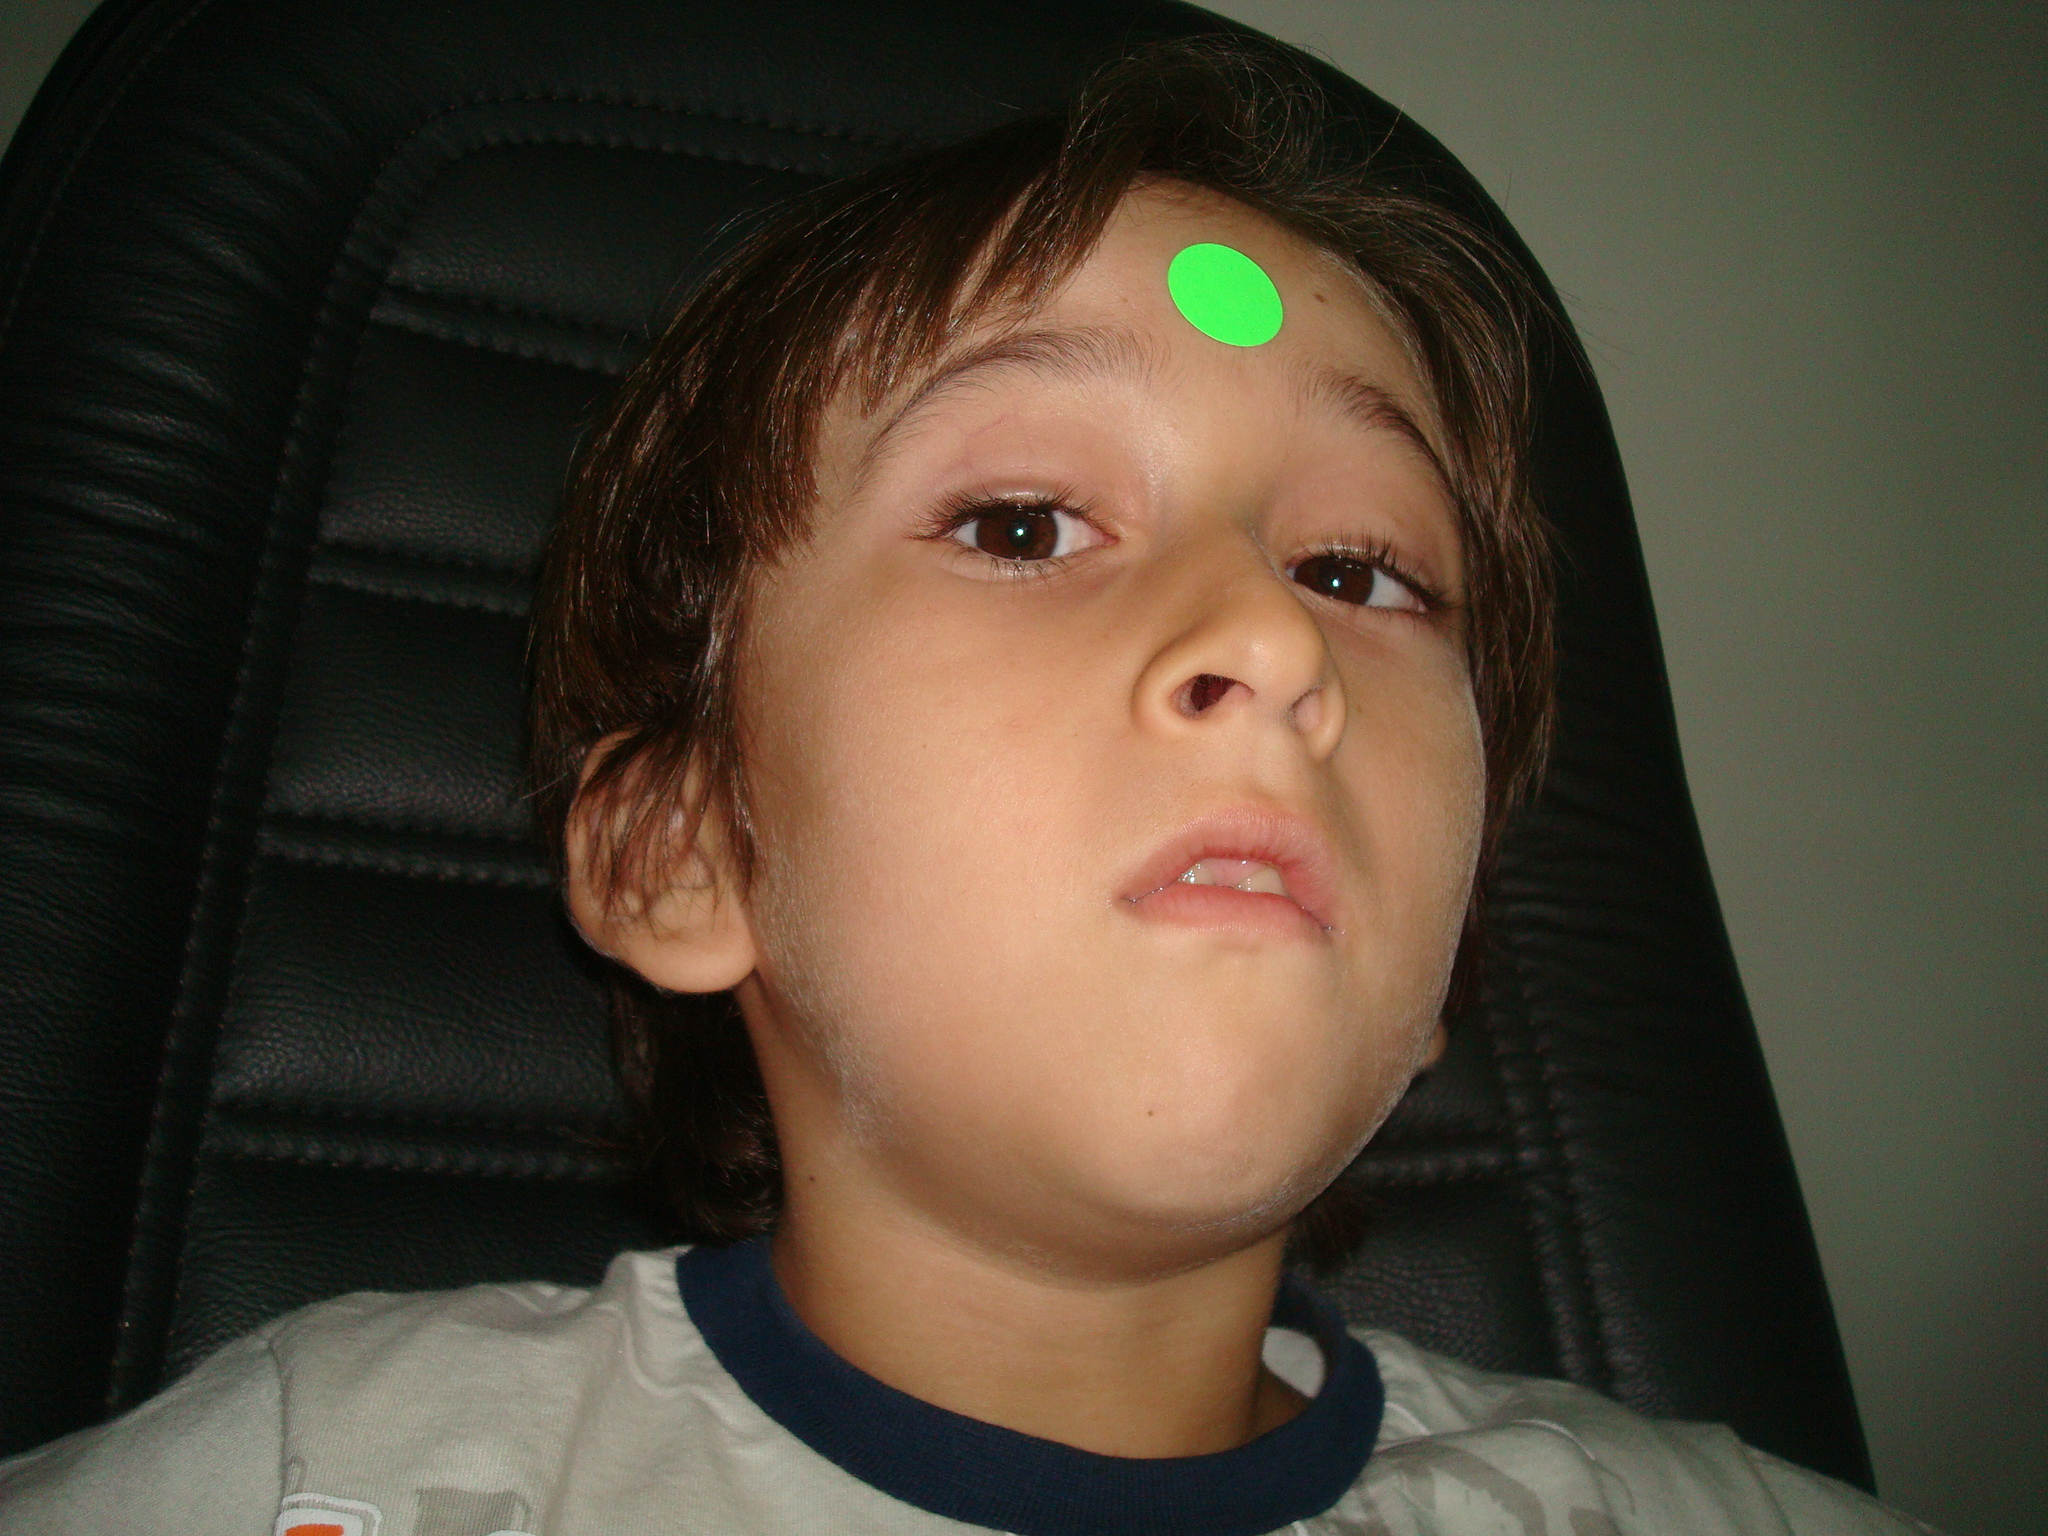flash: (1330, 578, 1340, 589), (1016, 528, 1026, 537)
limbo: (976, 503, 1061, 565), (1297, 549, 1374, 613)
